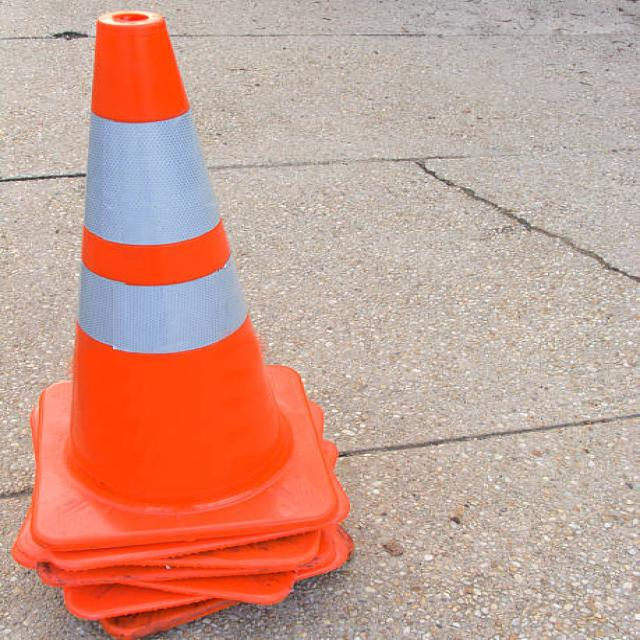Traffic Cone: (2, 2, 365, 568)
